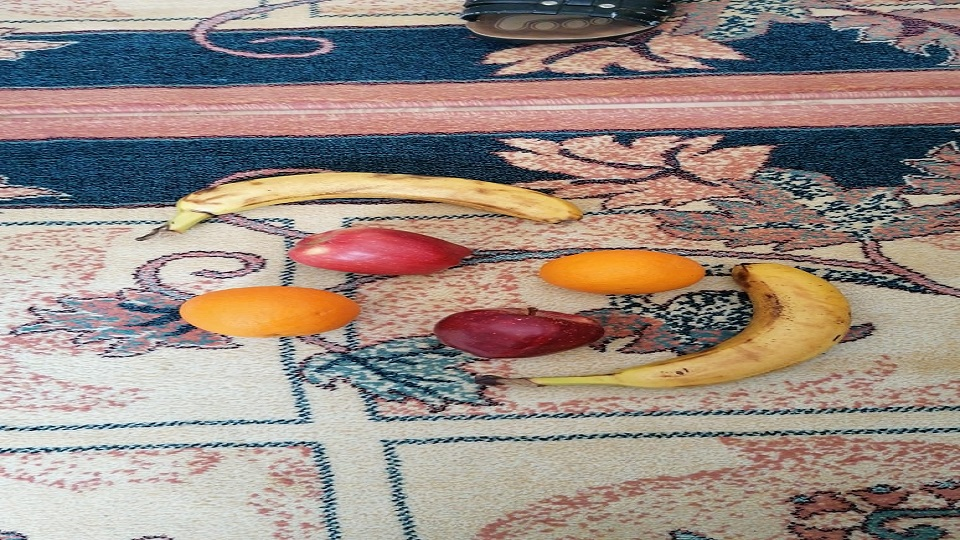elma: (286, 226, 473, 276), (433, 306, 605, 360)
muz: (532, 262, 852, 390), (166, 170, 582, 236)
portakal: (179, 285, 362, 338), (537, 247, 705, 295)
